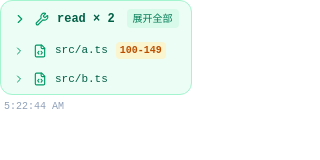
Test: FileToolGroupCard read 行 › 展开某行显示该文件读取内容（不带行号）
The image size is (320, 160).
Click the button with test id "tool-file-row" showing "src/ b.ts" at (60, 79), box 13,72 -> 108,86
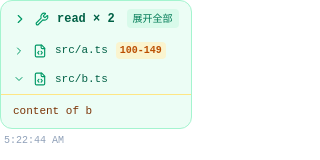
Expected: the text "content of b" is shown, 13,104 -> 92,116
